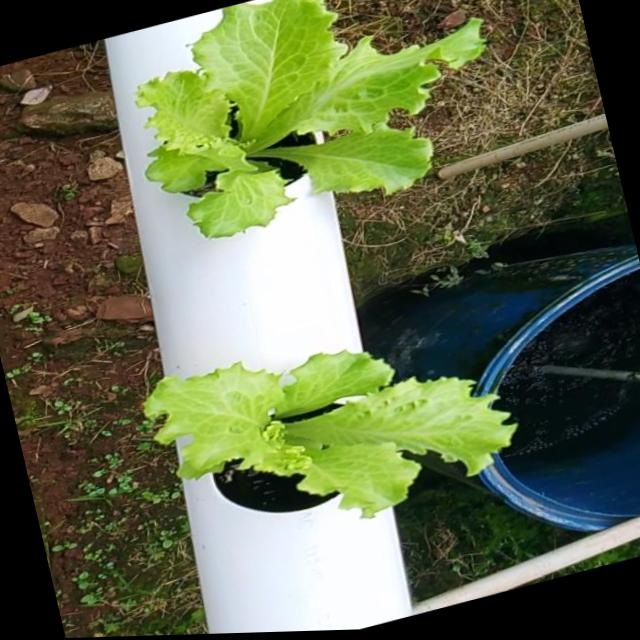Baby: (142, 6, 493, 253), (159, 366, 537, 536)
